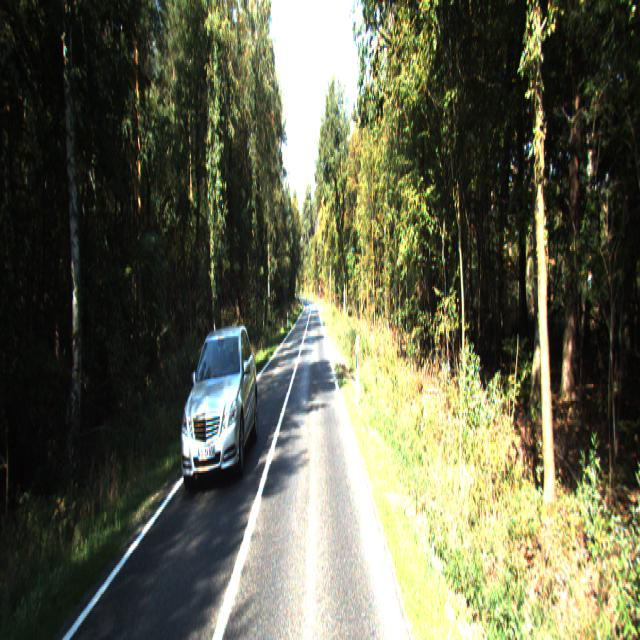Car: (176, 321, 260, 490)
